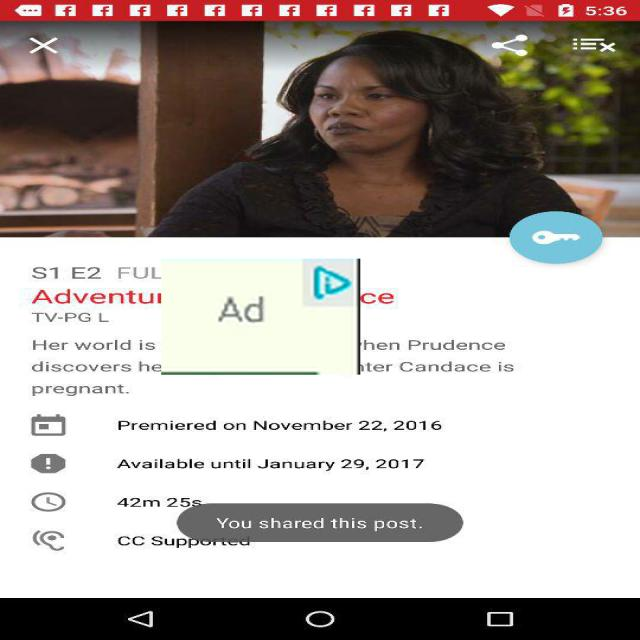sneaking: (161, 258, 360, 374)
